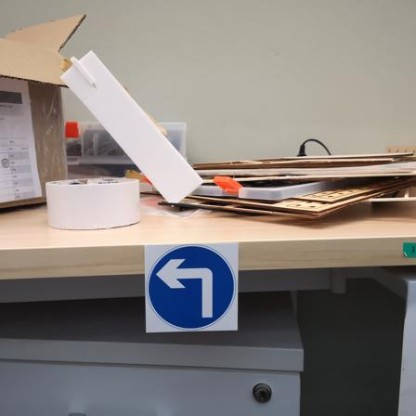left: (139, 234, 241, 337)
